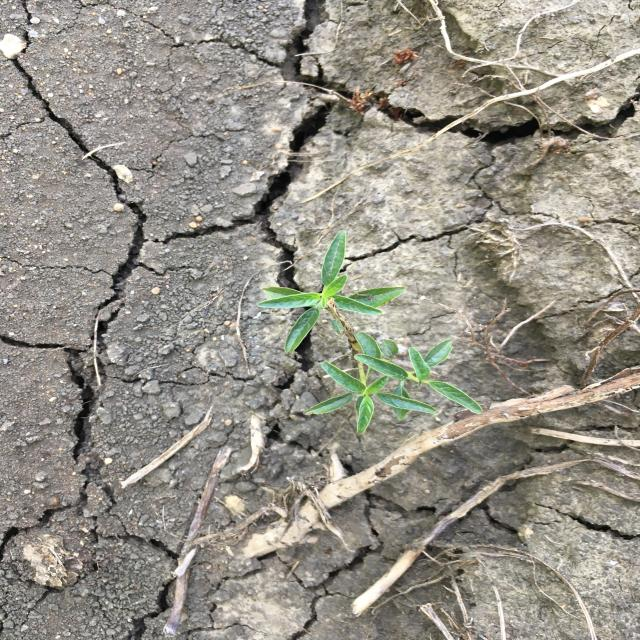Waterhemp: (253, 229, 486, 435)
